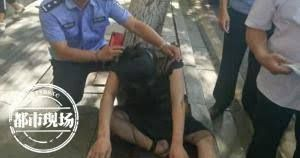fall: (73, 38, 228, 156)
